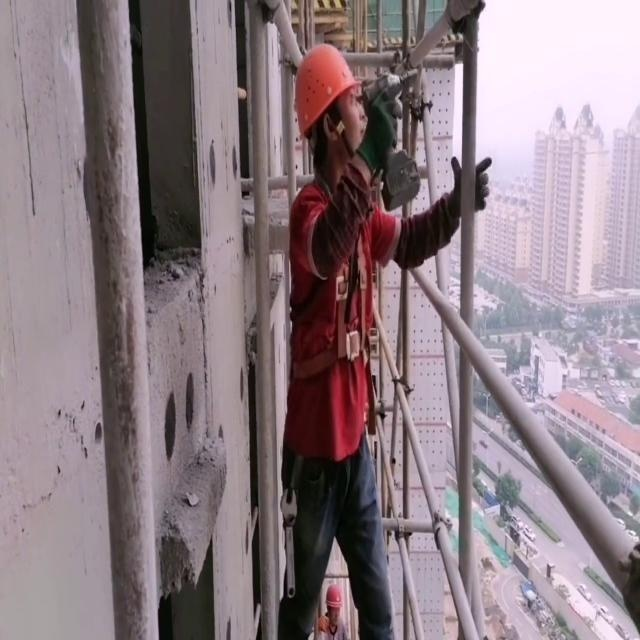Arnes_seguridad: (281, 174, 383, 391)
